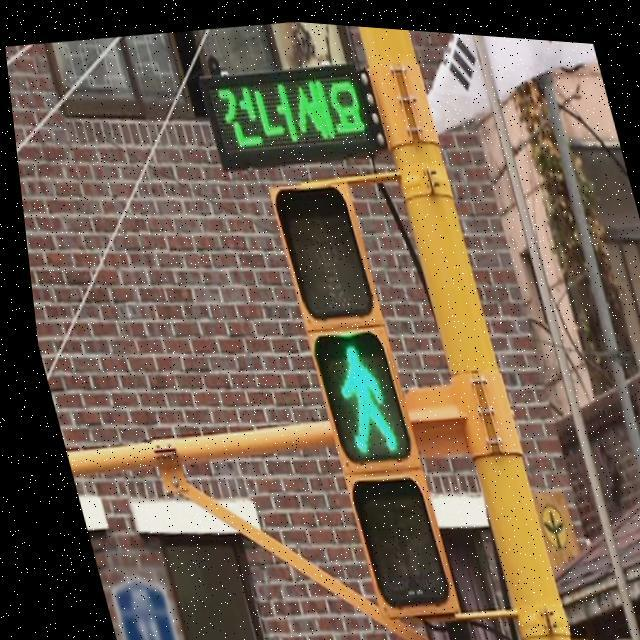green_light: (303, 326, 402, 458)
